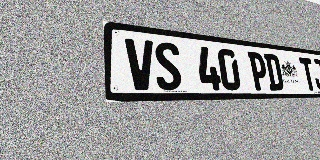0: (217, 48, 241, 90)
4: (196, 46, 222, 90)
D: (263, 53, 284, 90)
J: (311, 58, 320, 90)
P: (247, 51, 269, 90)
S: (153, 41, 183, 90)
T: (299, 57, 317, 90)
V: (125, 38, 156, 90)
